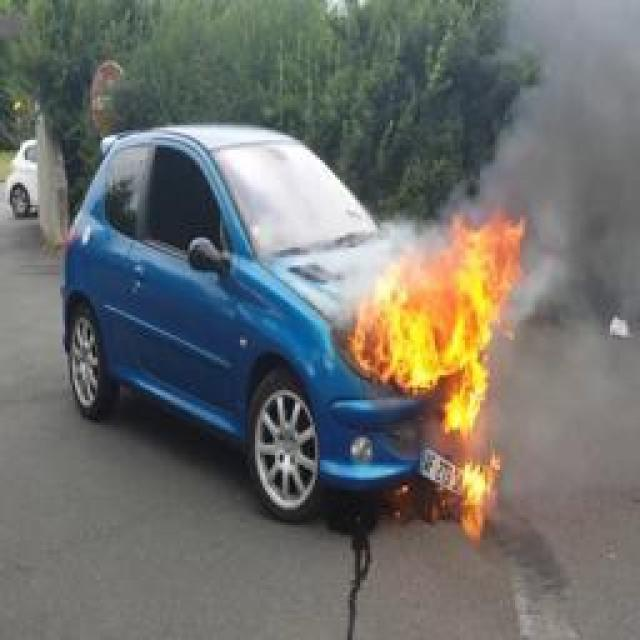Fire: (351, 210, 529, 438), (461, 456, 504, 539)
